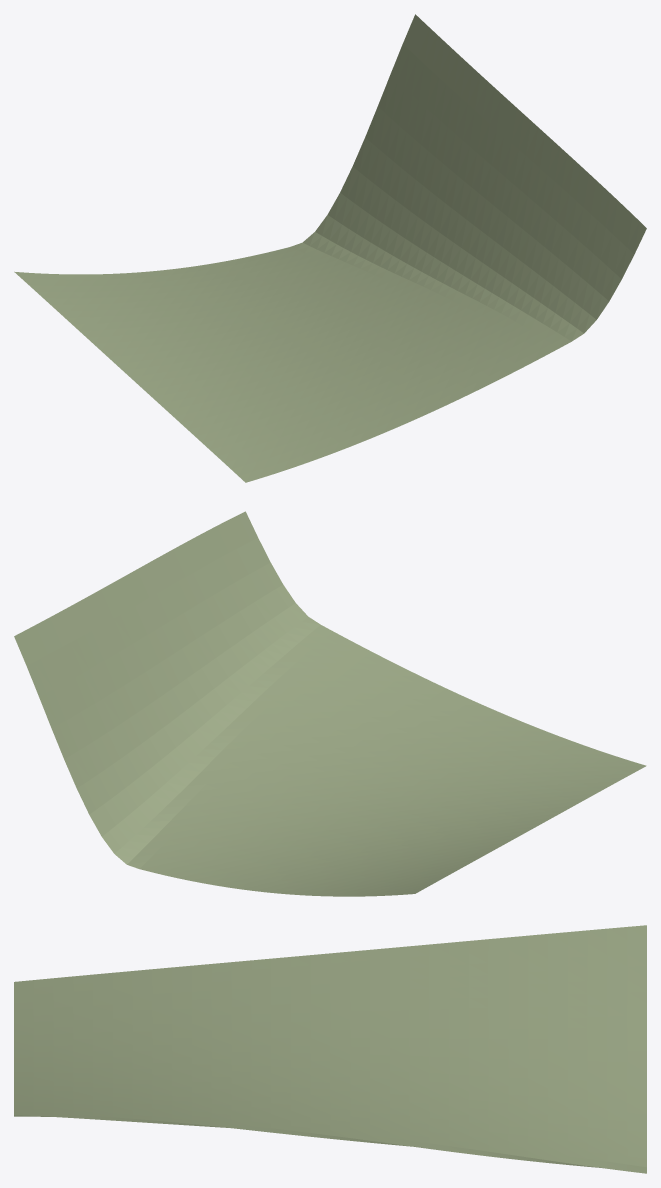
The model's file is alpine-11-8.glb.
3 views of the same model, one above another, from view 1: azimuth 30°, elevation 25°; view 2: azimuth 150°, elevation 25°; view 3: azimuth 270°, elevation 25° (orthographic). The views are drawn at different scales.
Visible parts, largest first — view 1: alpine-11-8; view 2: alpine-11-8; view 3: alpine-11-8.
Part boxes in pixels (x1,y1,x2,y2): alpine-11-8: (14, 14, 646, 482); alpine-11-8: (14, 511, 646, 896); alpine-11-8: (14, 925, 646, 1173).
Size of the model in its own units: 256 by 123 by 256.
